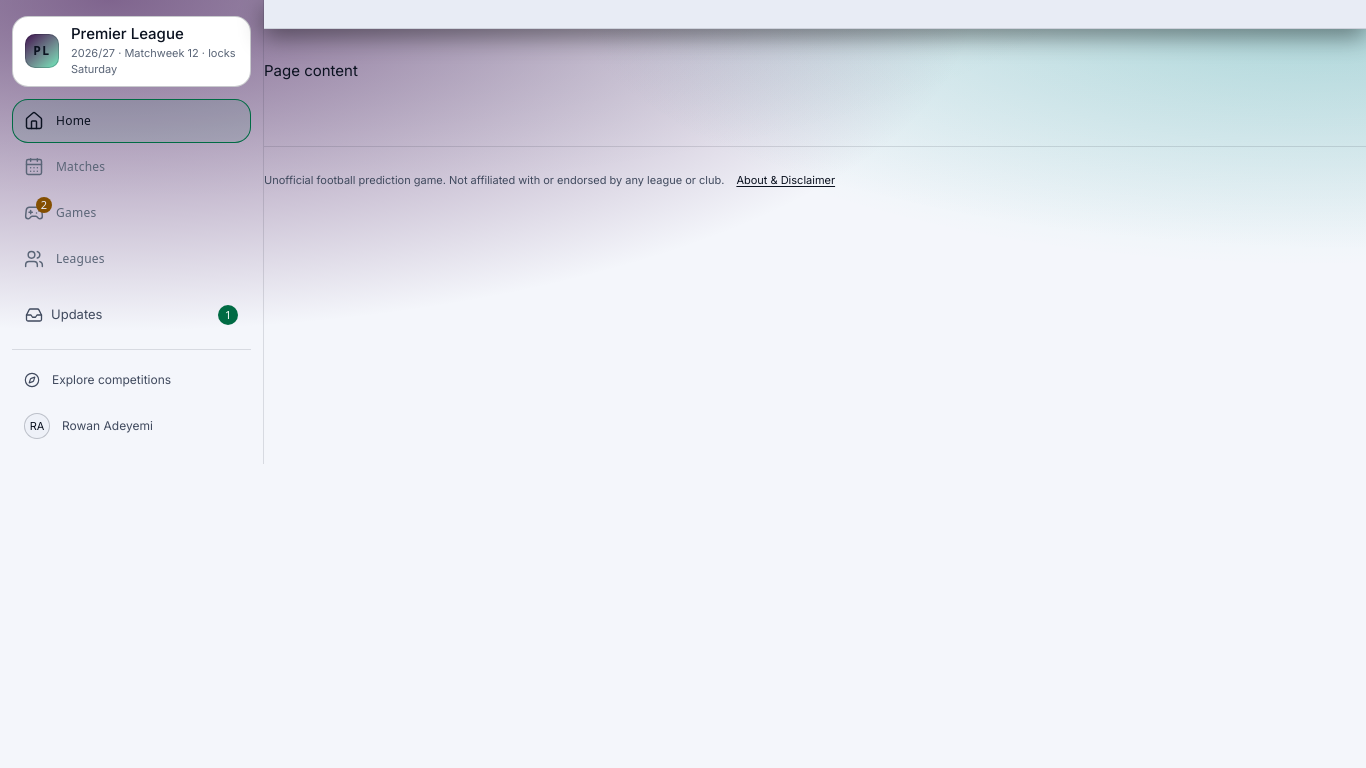
Scenario: the Action Centre › keeps a stale list and says it is stale
The image size is (1366, 768).
Step 1. Click the button "Updates 1" → click(132, 315), box [12,293,251,337]
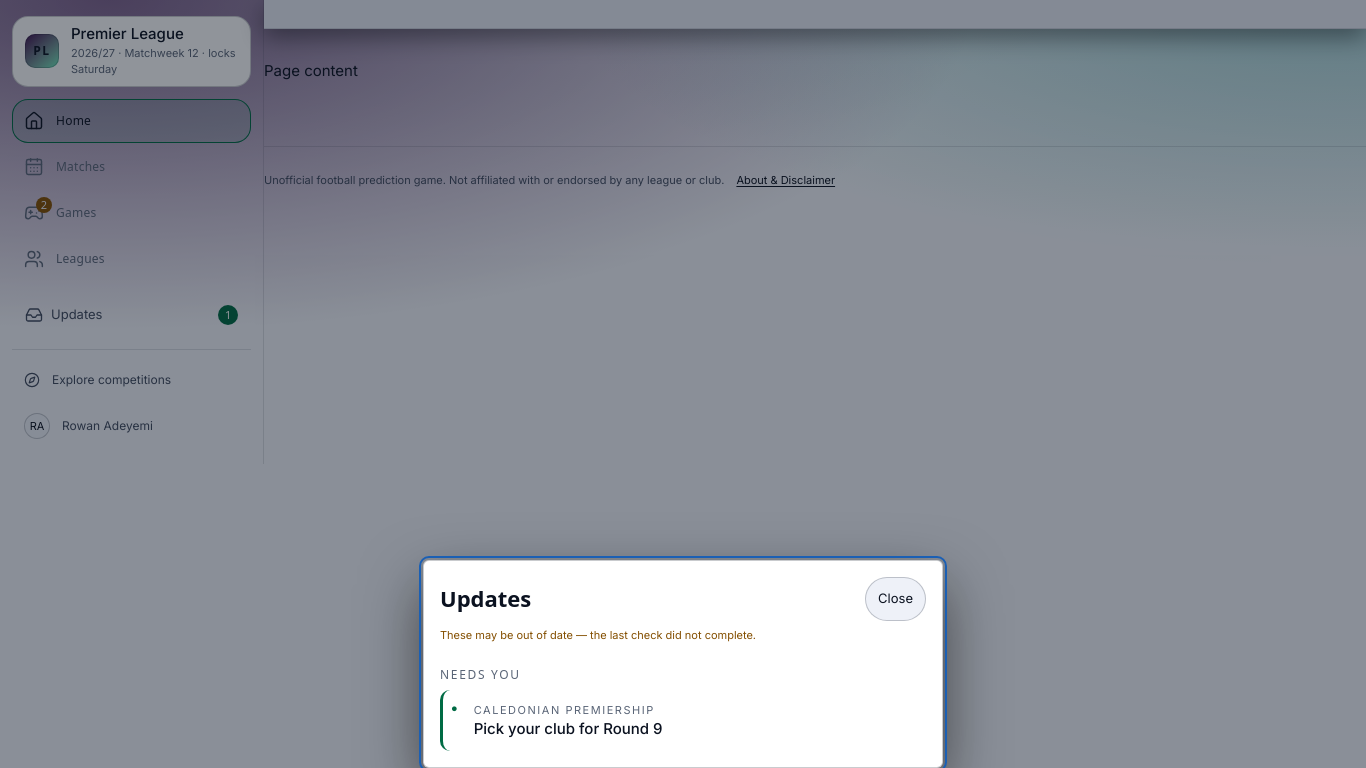
Result: the text "Pick your club for Round 9" is shown at [474,719,663,738]
Result: the text "These may be out of date — the last check did not complete." is shown at [440,628,756,642]
